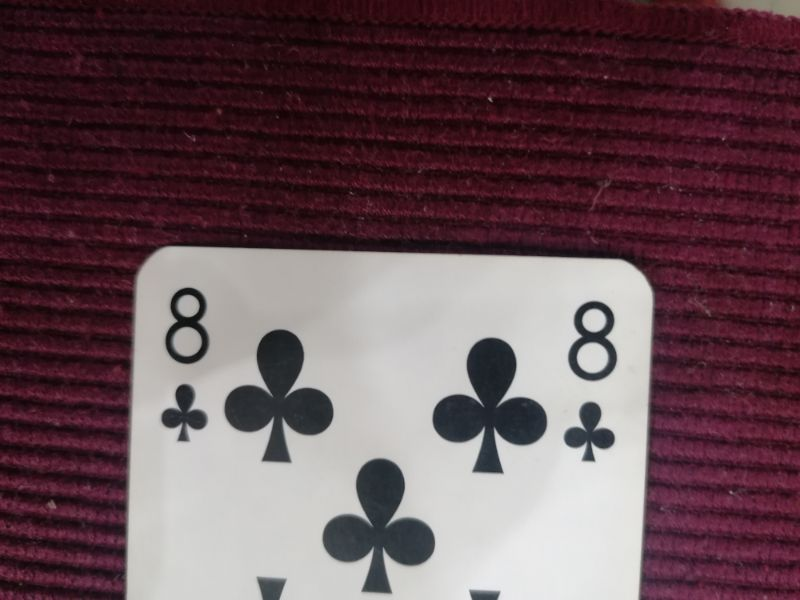8c: (557, 290, 621, 468), (159, 284, 216, 453)
